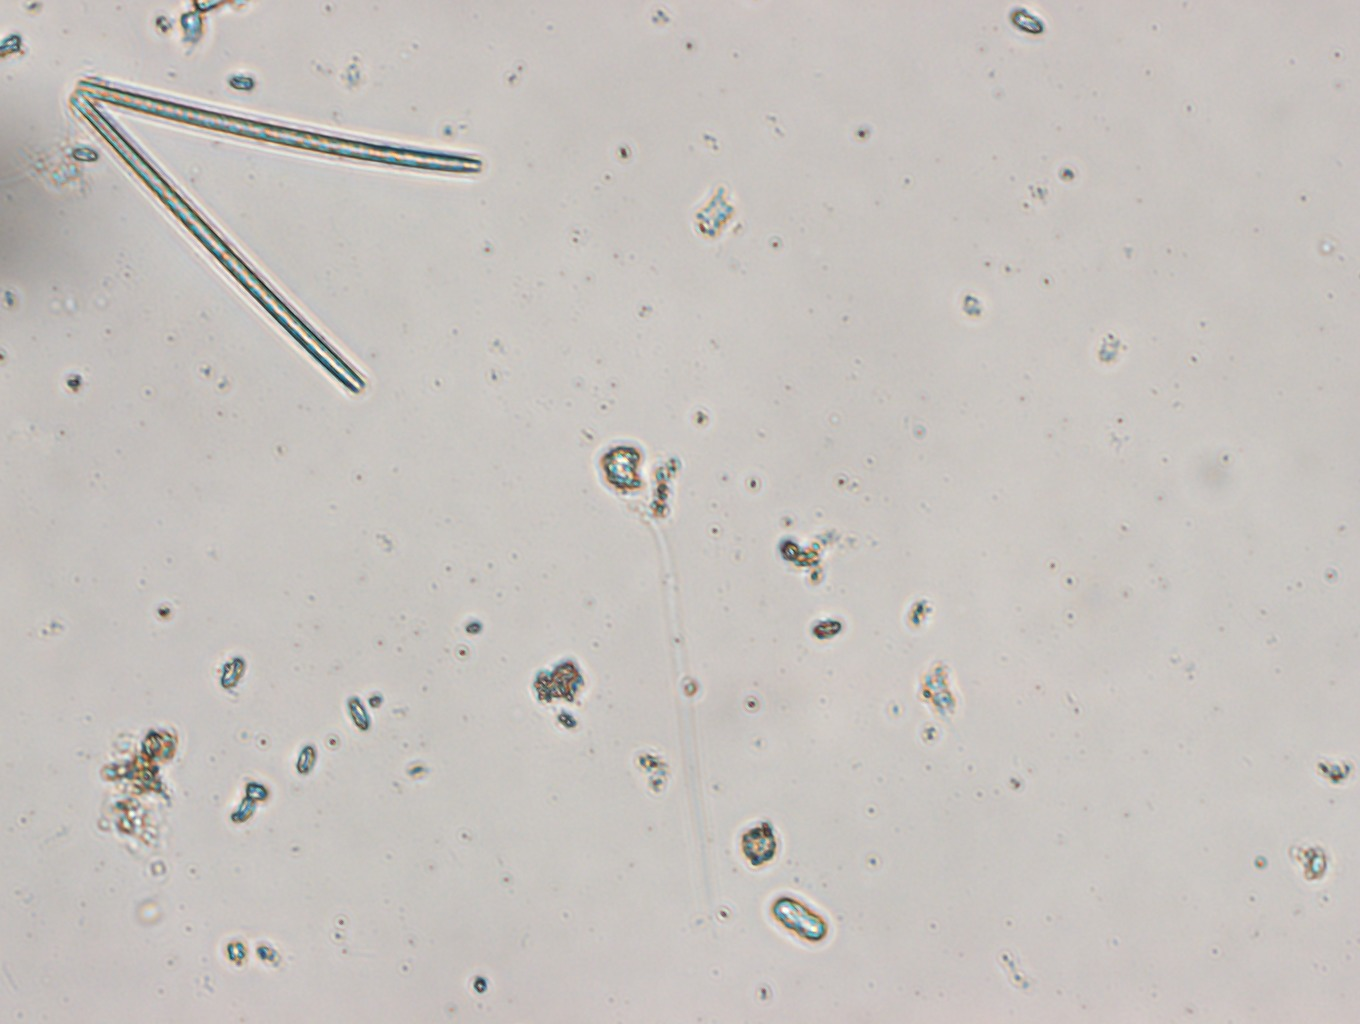thalassionema frauenfeldii: (68, 76, 484, 394)
